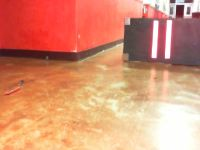switch: (164, 20, 172, 59), (151, 20, 159, 58)
